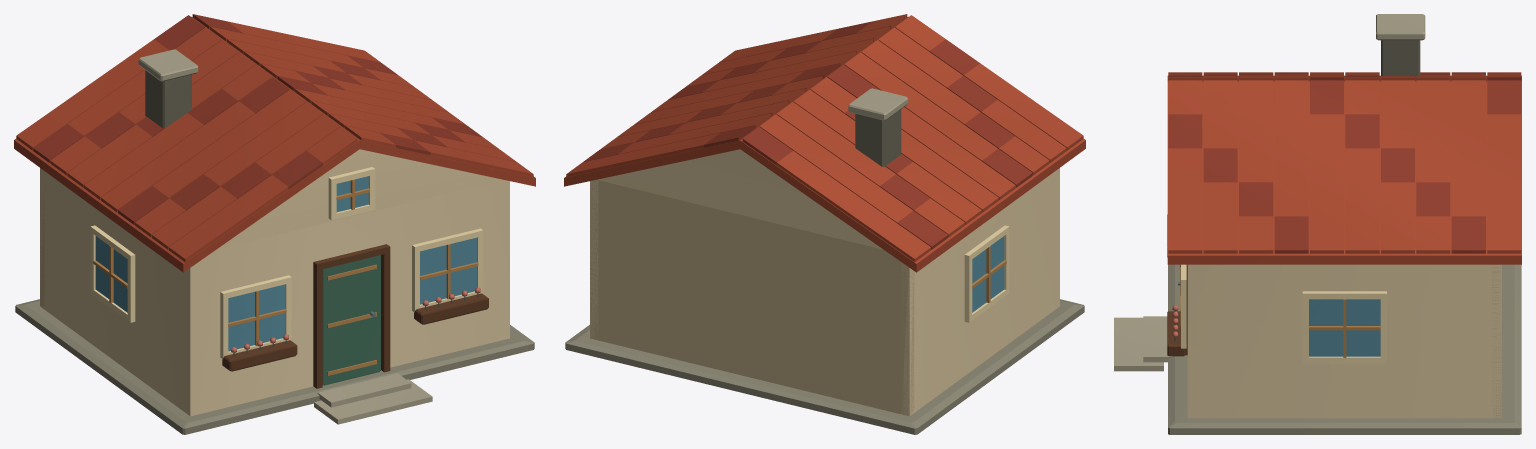
File: Building_Rural_VillageHouse6m_001.glb
3 renders of one model, left to right at view 1: azimuth 30°, elevation 25°; view 2: azimuth 150°, elevation 25°; view 3: azimuth 270°, elevation 25°, orthographic. The views are drawn at different scales.
Visible parts, largest first — view 1: RU_VillageHouse6m_Body, RU_VillageHouse6m_Door; view 2: RU_VillageHouse6m_Body; view 3: RU_VillageHouse6m_Body.
Boxes of the visible parts, box(x1,y1,x2,y2) form: RU_VillageHouse6m_Body: box(14, 14, 535, 434); RU_VillageHouse6m_Door: box(322, 255, 380, 385); RU_VillageHouse6m_Body: box(564, 14, 1085, 434); RU_VillageHouse6m_Body: box(1114, 14, 1521, 434).
Size of the model in its own units: 5.96 by 4.37 by 5.71.
